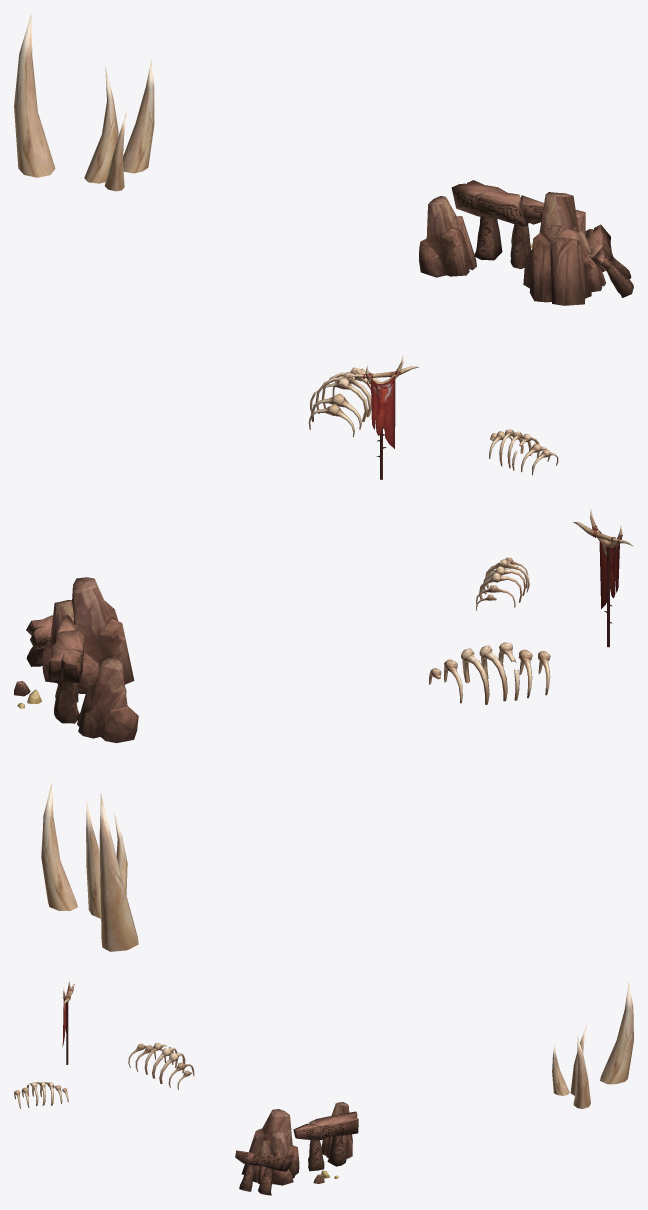
Rendered from area_09_3.FBX.
The picture shows the model from 3 angles, top to bottom: view 1: azimuth 30°, elevation 25°; view 2: azimuth 150°, elevation 25°; view 3: azimuth 270°, elevation 25°; orthographic projection. The views are drawn at different scales.
Visible parts, largest first — view 1: area_09_3; view 2: area_09_3; view 3: area_09_3.
Boxes of the visible parts, x1,y1,x2,y2 form: area_09_3: (14,15,633,479); area_09_3: (14,508,633,951); area_09_3: (14,981,633,1195).
Size of the model in its own units: 20.8 by 7.32 by 38.77.
